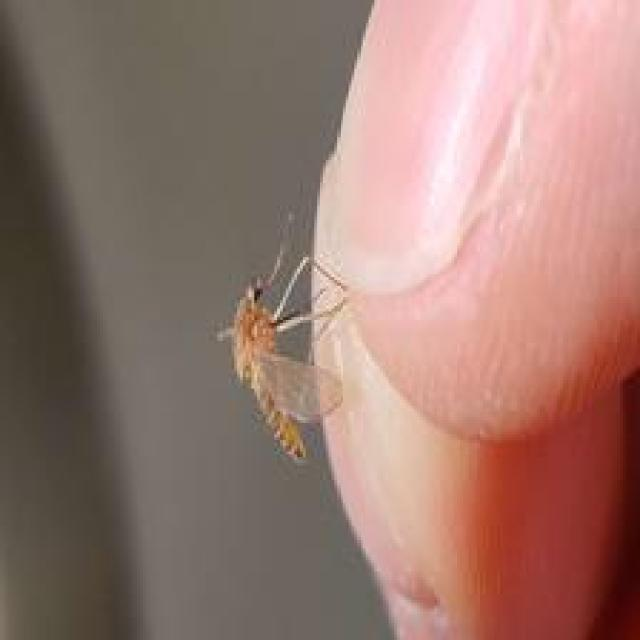Culex: (215, 211, 352, 463)
